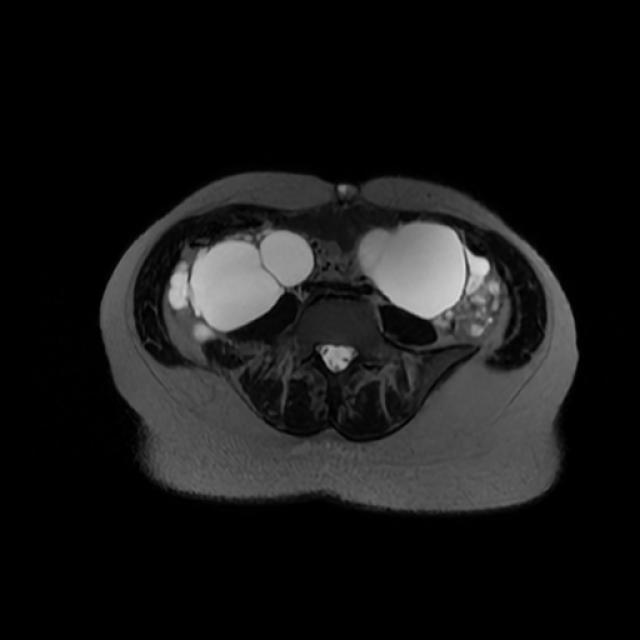sag: (171, 227, 317, 338)
sol: (361, 222, 505, 339)
